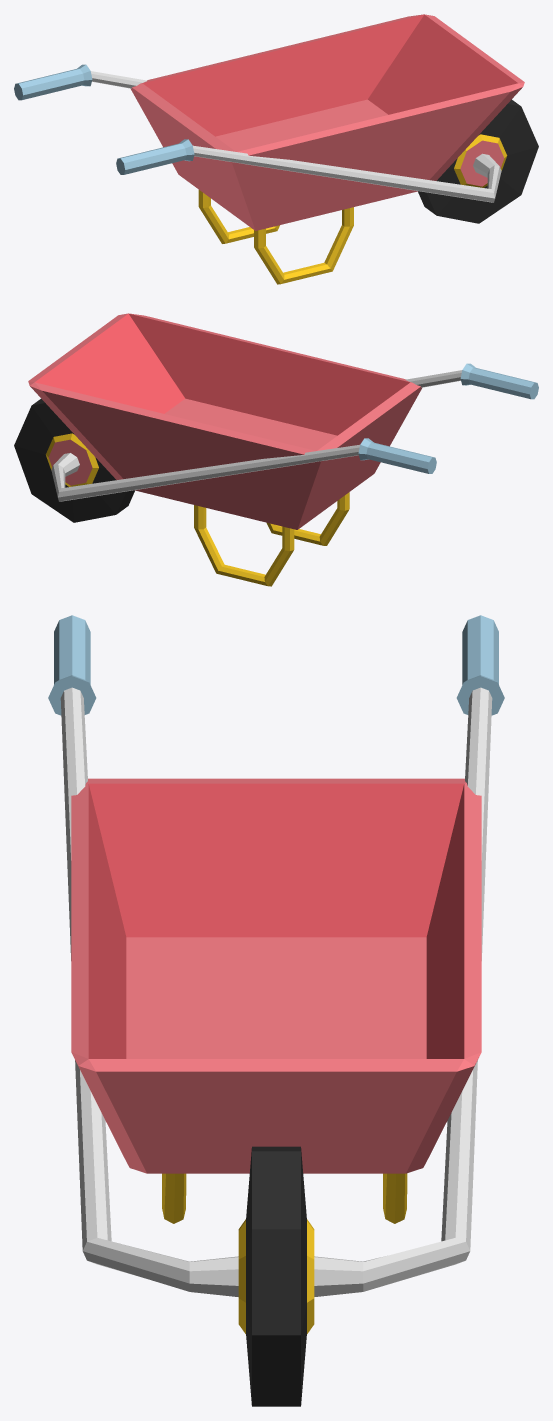
The model's file is Wheelbarrow_02.glb.
3 views of the same model, one above another, from view 1: azimuth 30°, elevation 25°; view 2: azimuth 150°, elevation 25°; view 3: azimuth 270°, elevation 25° (orthographic). The views are drawn at different scales.
Parts seen in each view (by area): view 1: Wheelbarrow_02; view 2: Wheelbarrow_02; view 3: Wheelbarrow_02.
Part boxes in pixels (bbox=[...]): Wheelbarrow_02: bbox=[14, 14, 538, 284]; Wheelbarrow_02: bbox=[14, 313, 538, 586]; Wheelbarrow_02: bbox=[48, 615, 504, 1406].
Size of what is drawn, in the model's own units: 2.45 by 1.01 by 1.05.
1 material, 1 textured.
